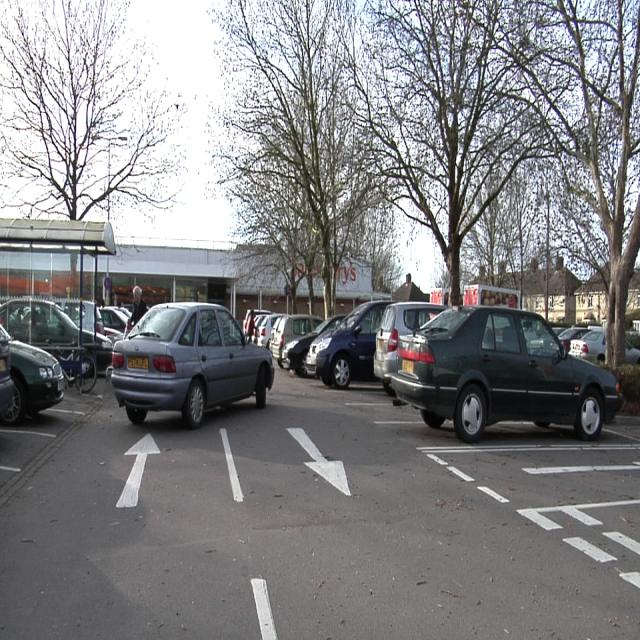Building: (99, 243, 289, 322), (336, 260, 378, 313)
Car: (308, 304, 622, 440), (111, 302, 274, 427), (1, 299, 94, 423), (270, 313, 322, 364), (569, 330, 606, 361), (100, 307, 129, 332), (625, 342, 640, 362)
Road: (1, 369, 639, 631)
Tree: (219, 0, 640, 368), (2, 2, 185, 218)
